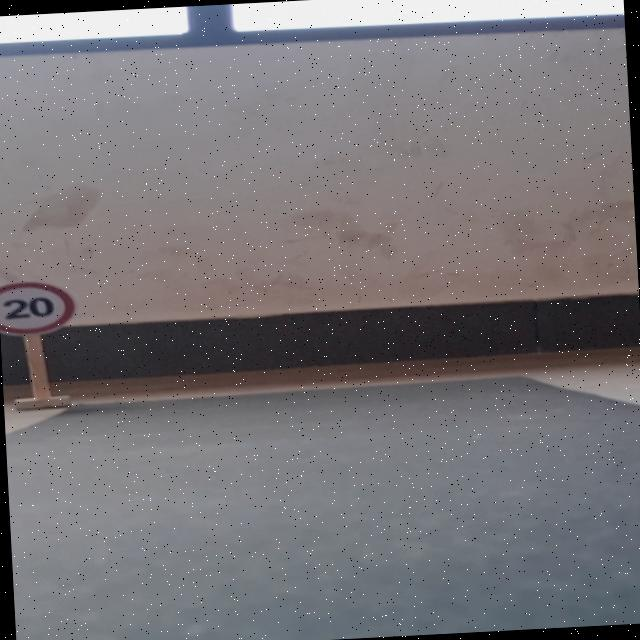Speed20: (0, 275, 87, 341)
